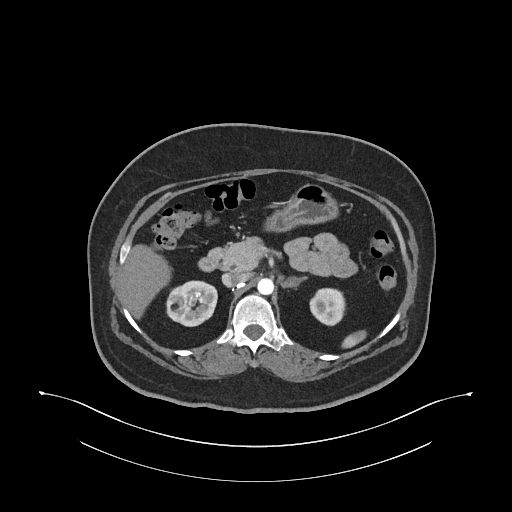Lesion: (167, 302, 184, 315)
